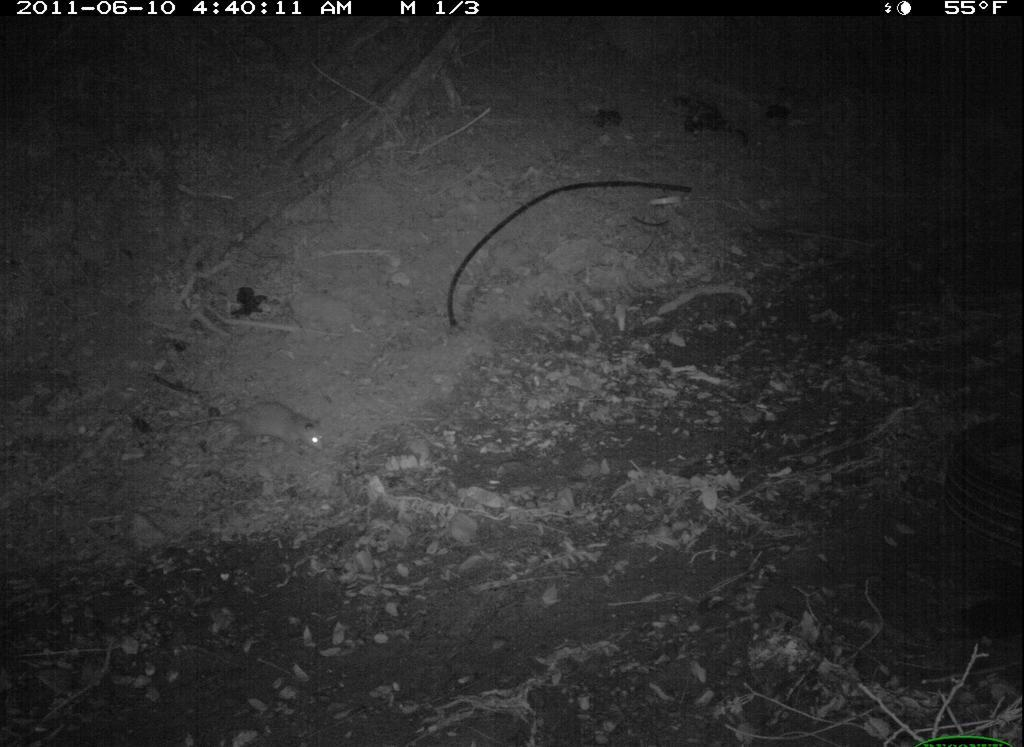opossum: (163, 387, 344, 472)
